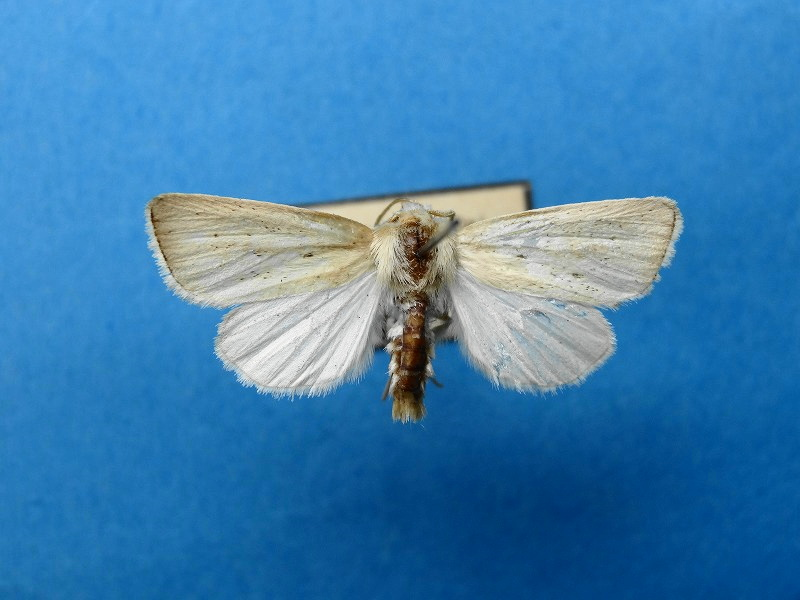Noctuidae: (144, 187, 682, 427)
